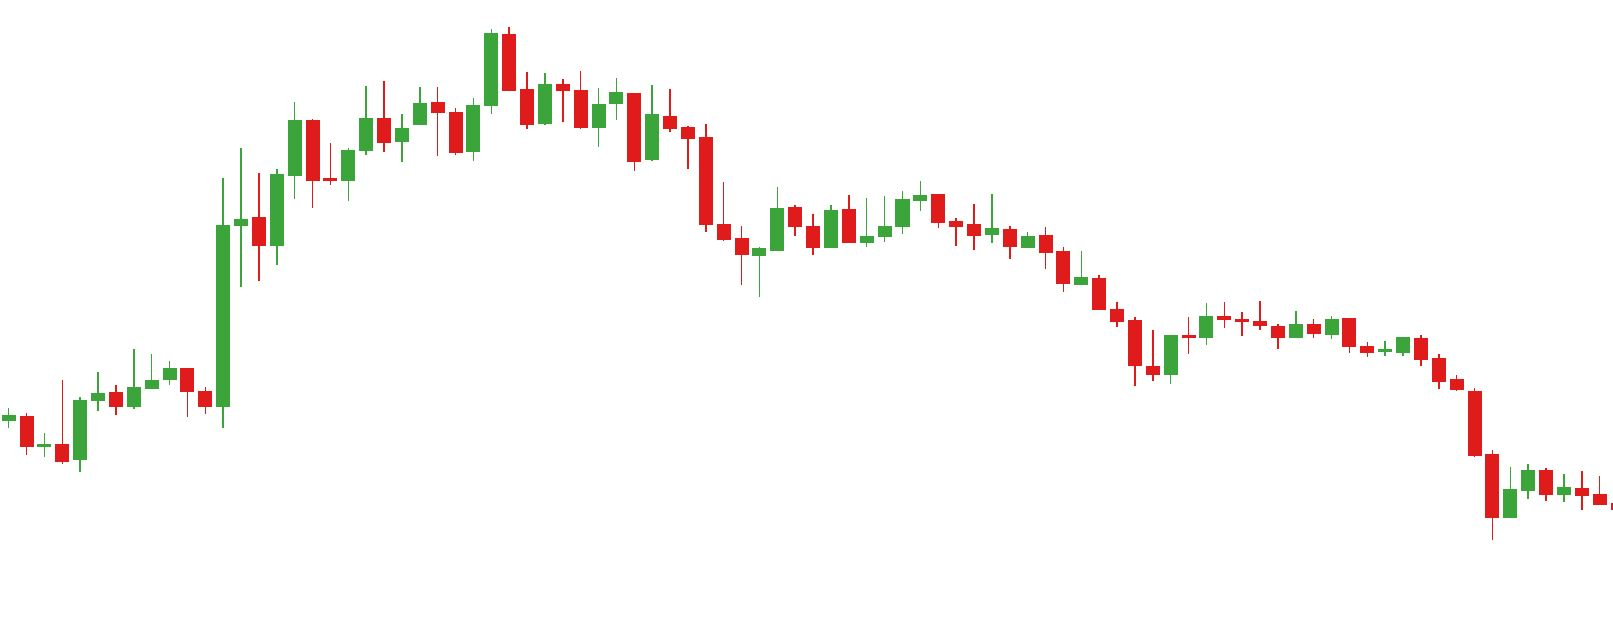sell: (354, 17, 519, 124)
